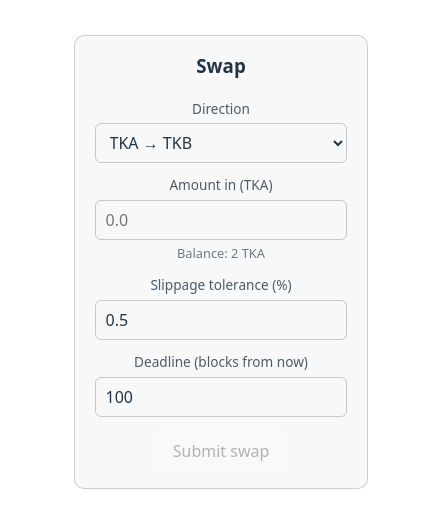
Test: SwapForm › quotes the expected and minimum output from the spot price
Step 1. Type "1" into the field labelled "Amount in (TKA)" → [221, 220], box top-left (95, 200), bottom-right (347, 240)
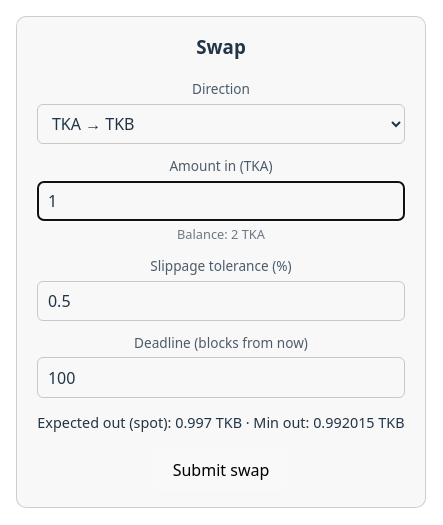
Now the text with test id "swap-quote" shows "Expected out (spot): 0.997 TKB", box top-left (37, 412), bottom-right (405, 434)
Now the text with test id "swap-quote" shows "Min out: 0.992015 TKB", box top-left (37, 412), bottom-right (405, 434)
